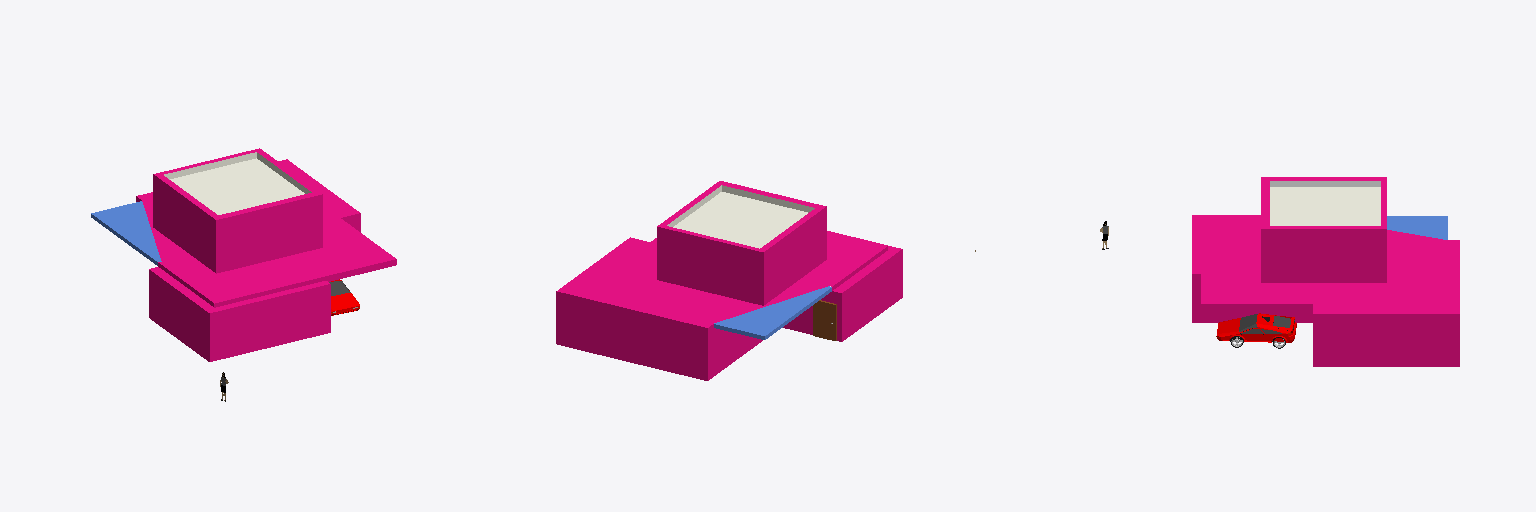
File: modern_house.obj
3 views of the same model, side by side, from view 1: azimuth 30°, elevation 25°; view 2: azimuth 150°, elevation 25°; view 3: azimuth 270°, elevation 25° (orthographic).
Parts seen in each view (by area): view 1: Mesh18 Model, Mesh17 Group3 Concept_Super_Car1 Model; view 2: Mesh18 Model, Mesh4 Komponente_8_1 Komponente_5_1 Komponente_29_1 Komponente_2; view 3: Mesh18 Model, Mesh17 Group3 Concept_Super_Car1 Model.
Boxes of the visible parts, <box> form: Mesh18 Model: <box>91,148,396,361</box>; Mesh17 Group3 Concept_Super_Car1 Model: <box>329,279,359,315</box>; Mesh18 Model: <box>556,181,902,380</box>; Mesh4 Komponente_8_1 Komponente_5_1 Komponente_29_1 Komponente_2: <box>813,300,836,340</box>; Mesh18 Model: <box>1192,177,1459,366</box>; Mesh17 Group3 Concept_Super_Car1 Model: <box>1216,313,1296,342</box>.
Size of the model in its own units: 589 by 254 by 759.